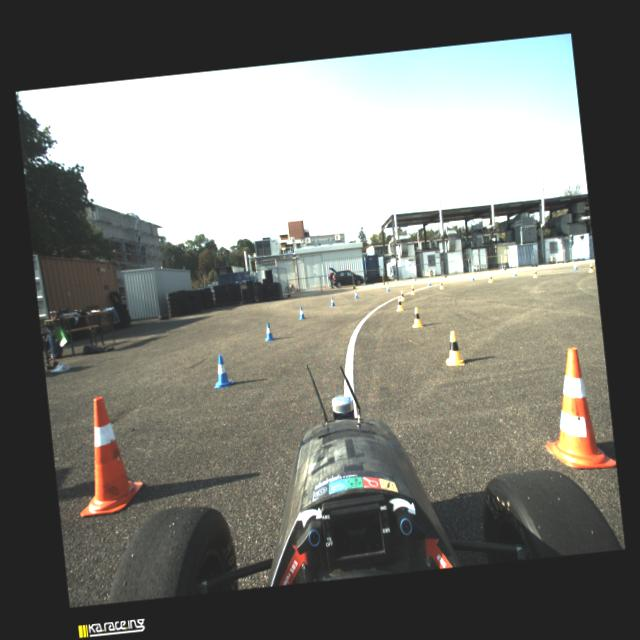blue_cone: (212, 353, 232, 388), (263, 322, 274, 341), (298, 306, 304, 319), (329, 296, 334, 306), (572, 262, 578, 270), (426, 278, 431, 286), (353, 290, 358, 298), (512, 269, 517, 276), (386, 284, 390, 292), (470, 274, 474, 280)
large_orange_cone: (540, 344, 615, 472), (70, 393, 146, 515)
yellow_cone: (443, 330, 464, 366), (410, 306, 422, 327), (396, 297, 404, 311), (587, 262, 594, 272), (531, 268, 537, 278), (399, 290, 405, 300), (438, 280, 444, 288), (487, 274, 492, 282), (410, 284, 414, 294)
